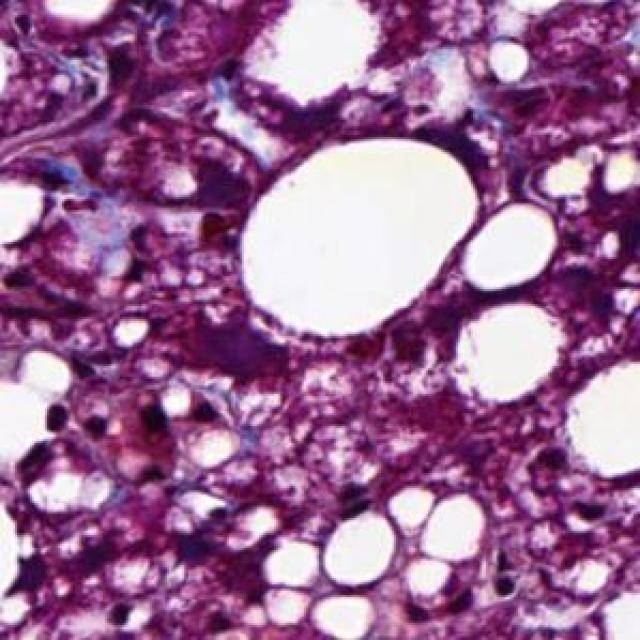inflammation: (41, 512, 216, 600), (270, 416, 383, 508), (516, 447, 614, 535), (479, 548, 531, 608)
